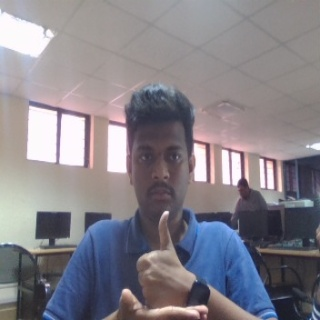Help: (117, 210, 208, 320)
